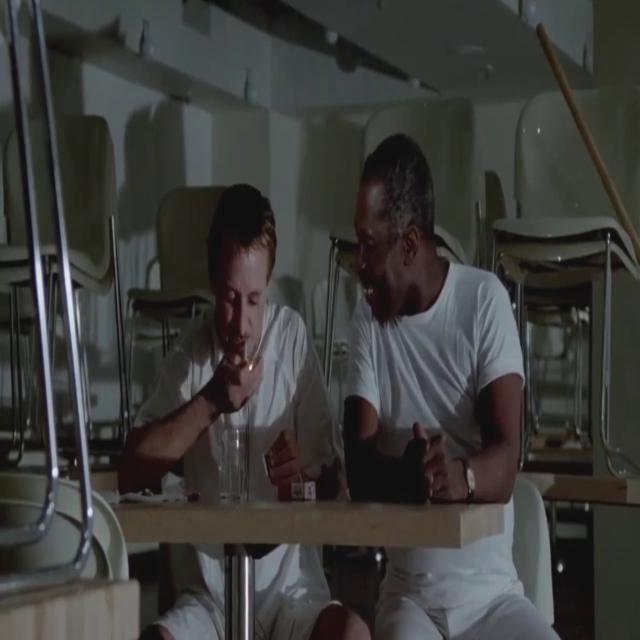Smooking: (242, 338, 251, 366)
